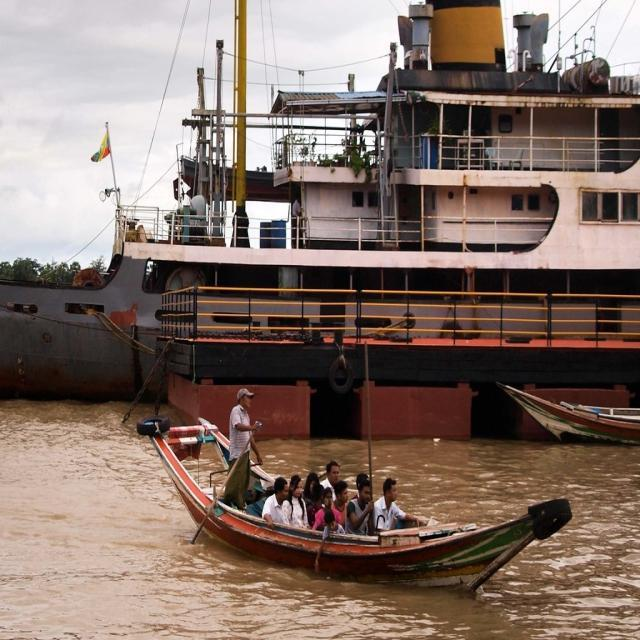boat: (122, 377, 574, 596)
